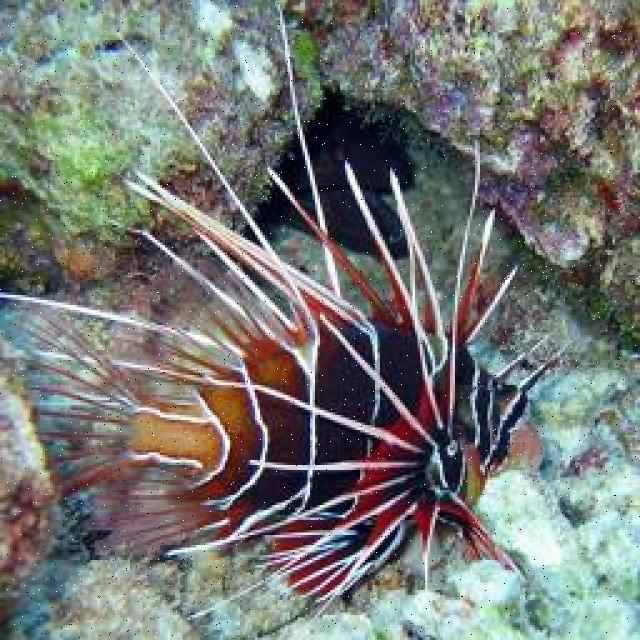fish: (0, 156, 571, 633)
